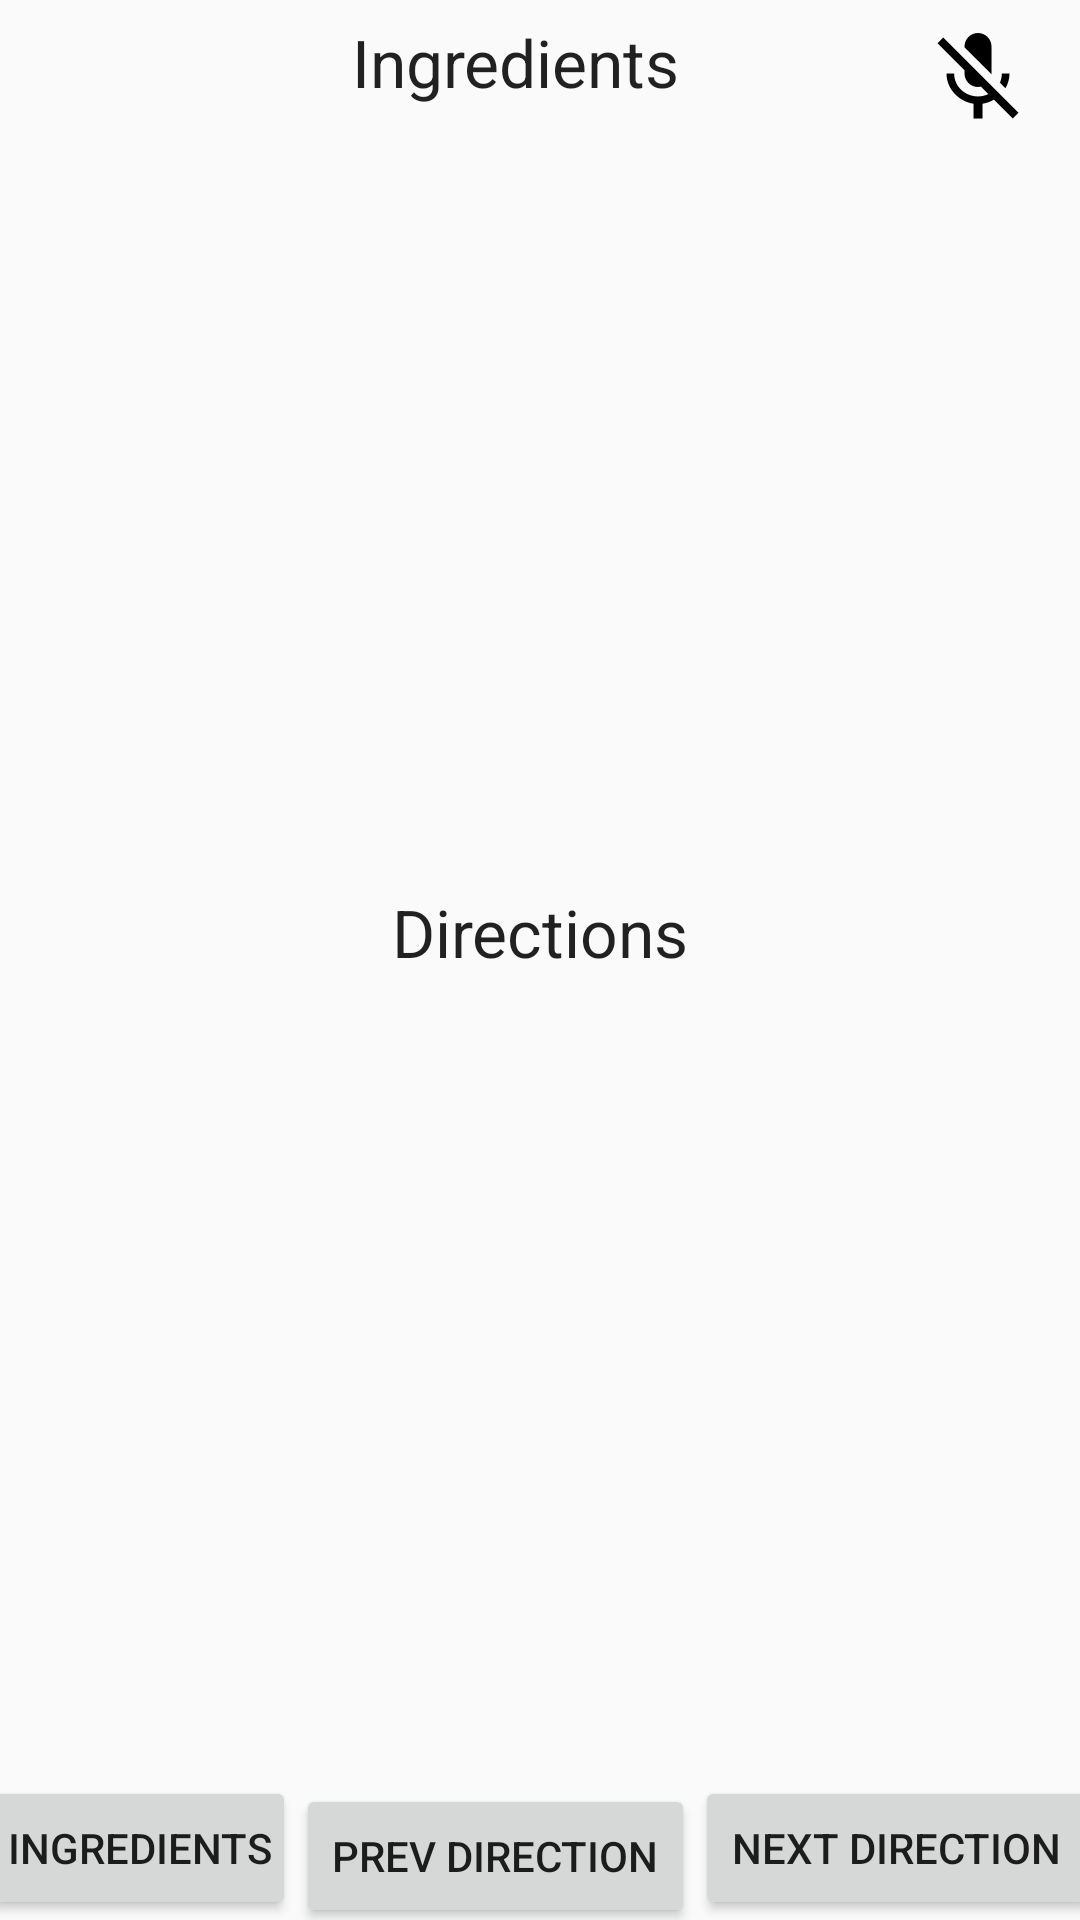

Icons on this 1080×1920 Android screen, each with the point to tap as point (x, y):
microphone off: point (978, 76)
